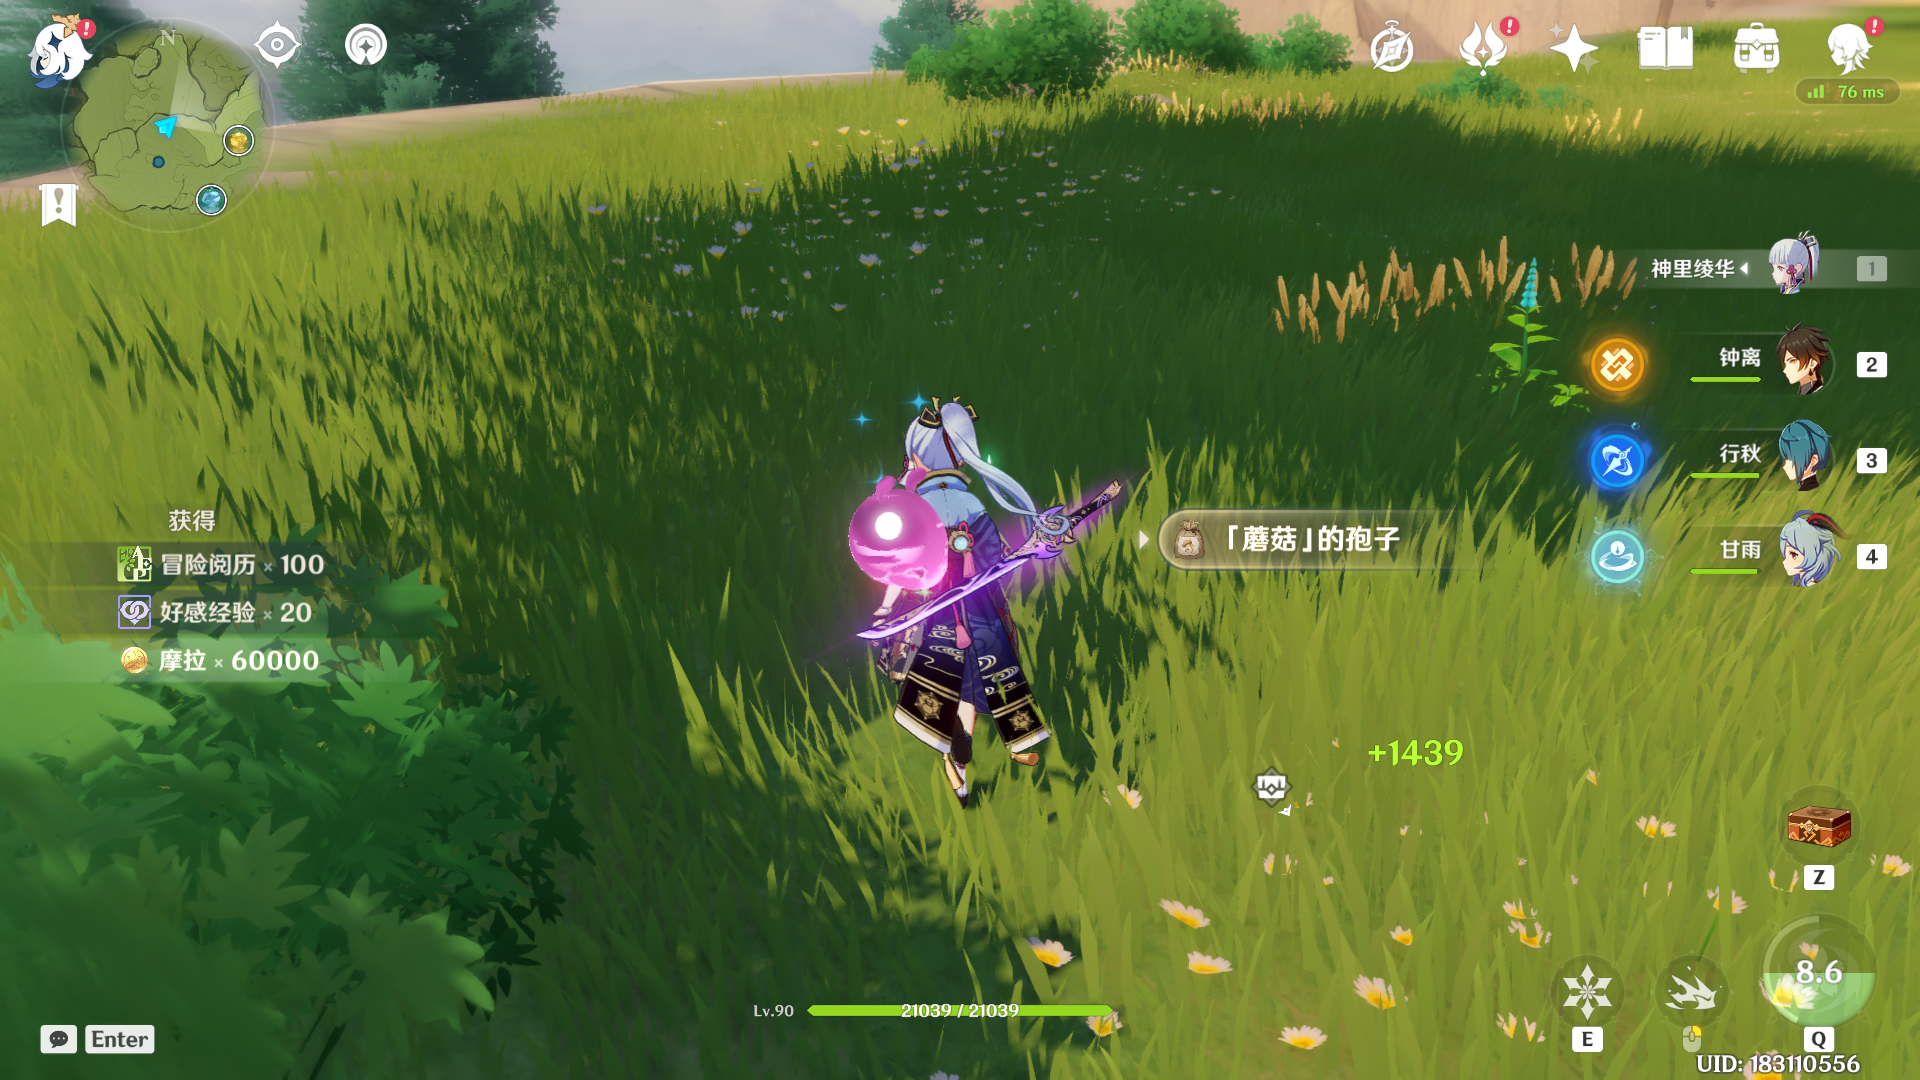character: (794, 371, 1137, 853)
